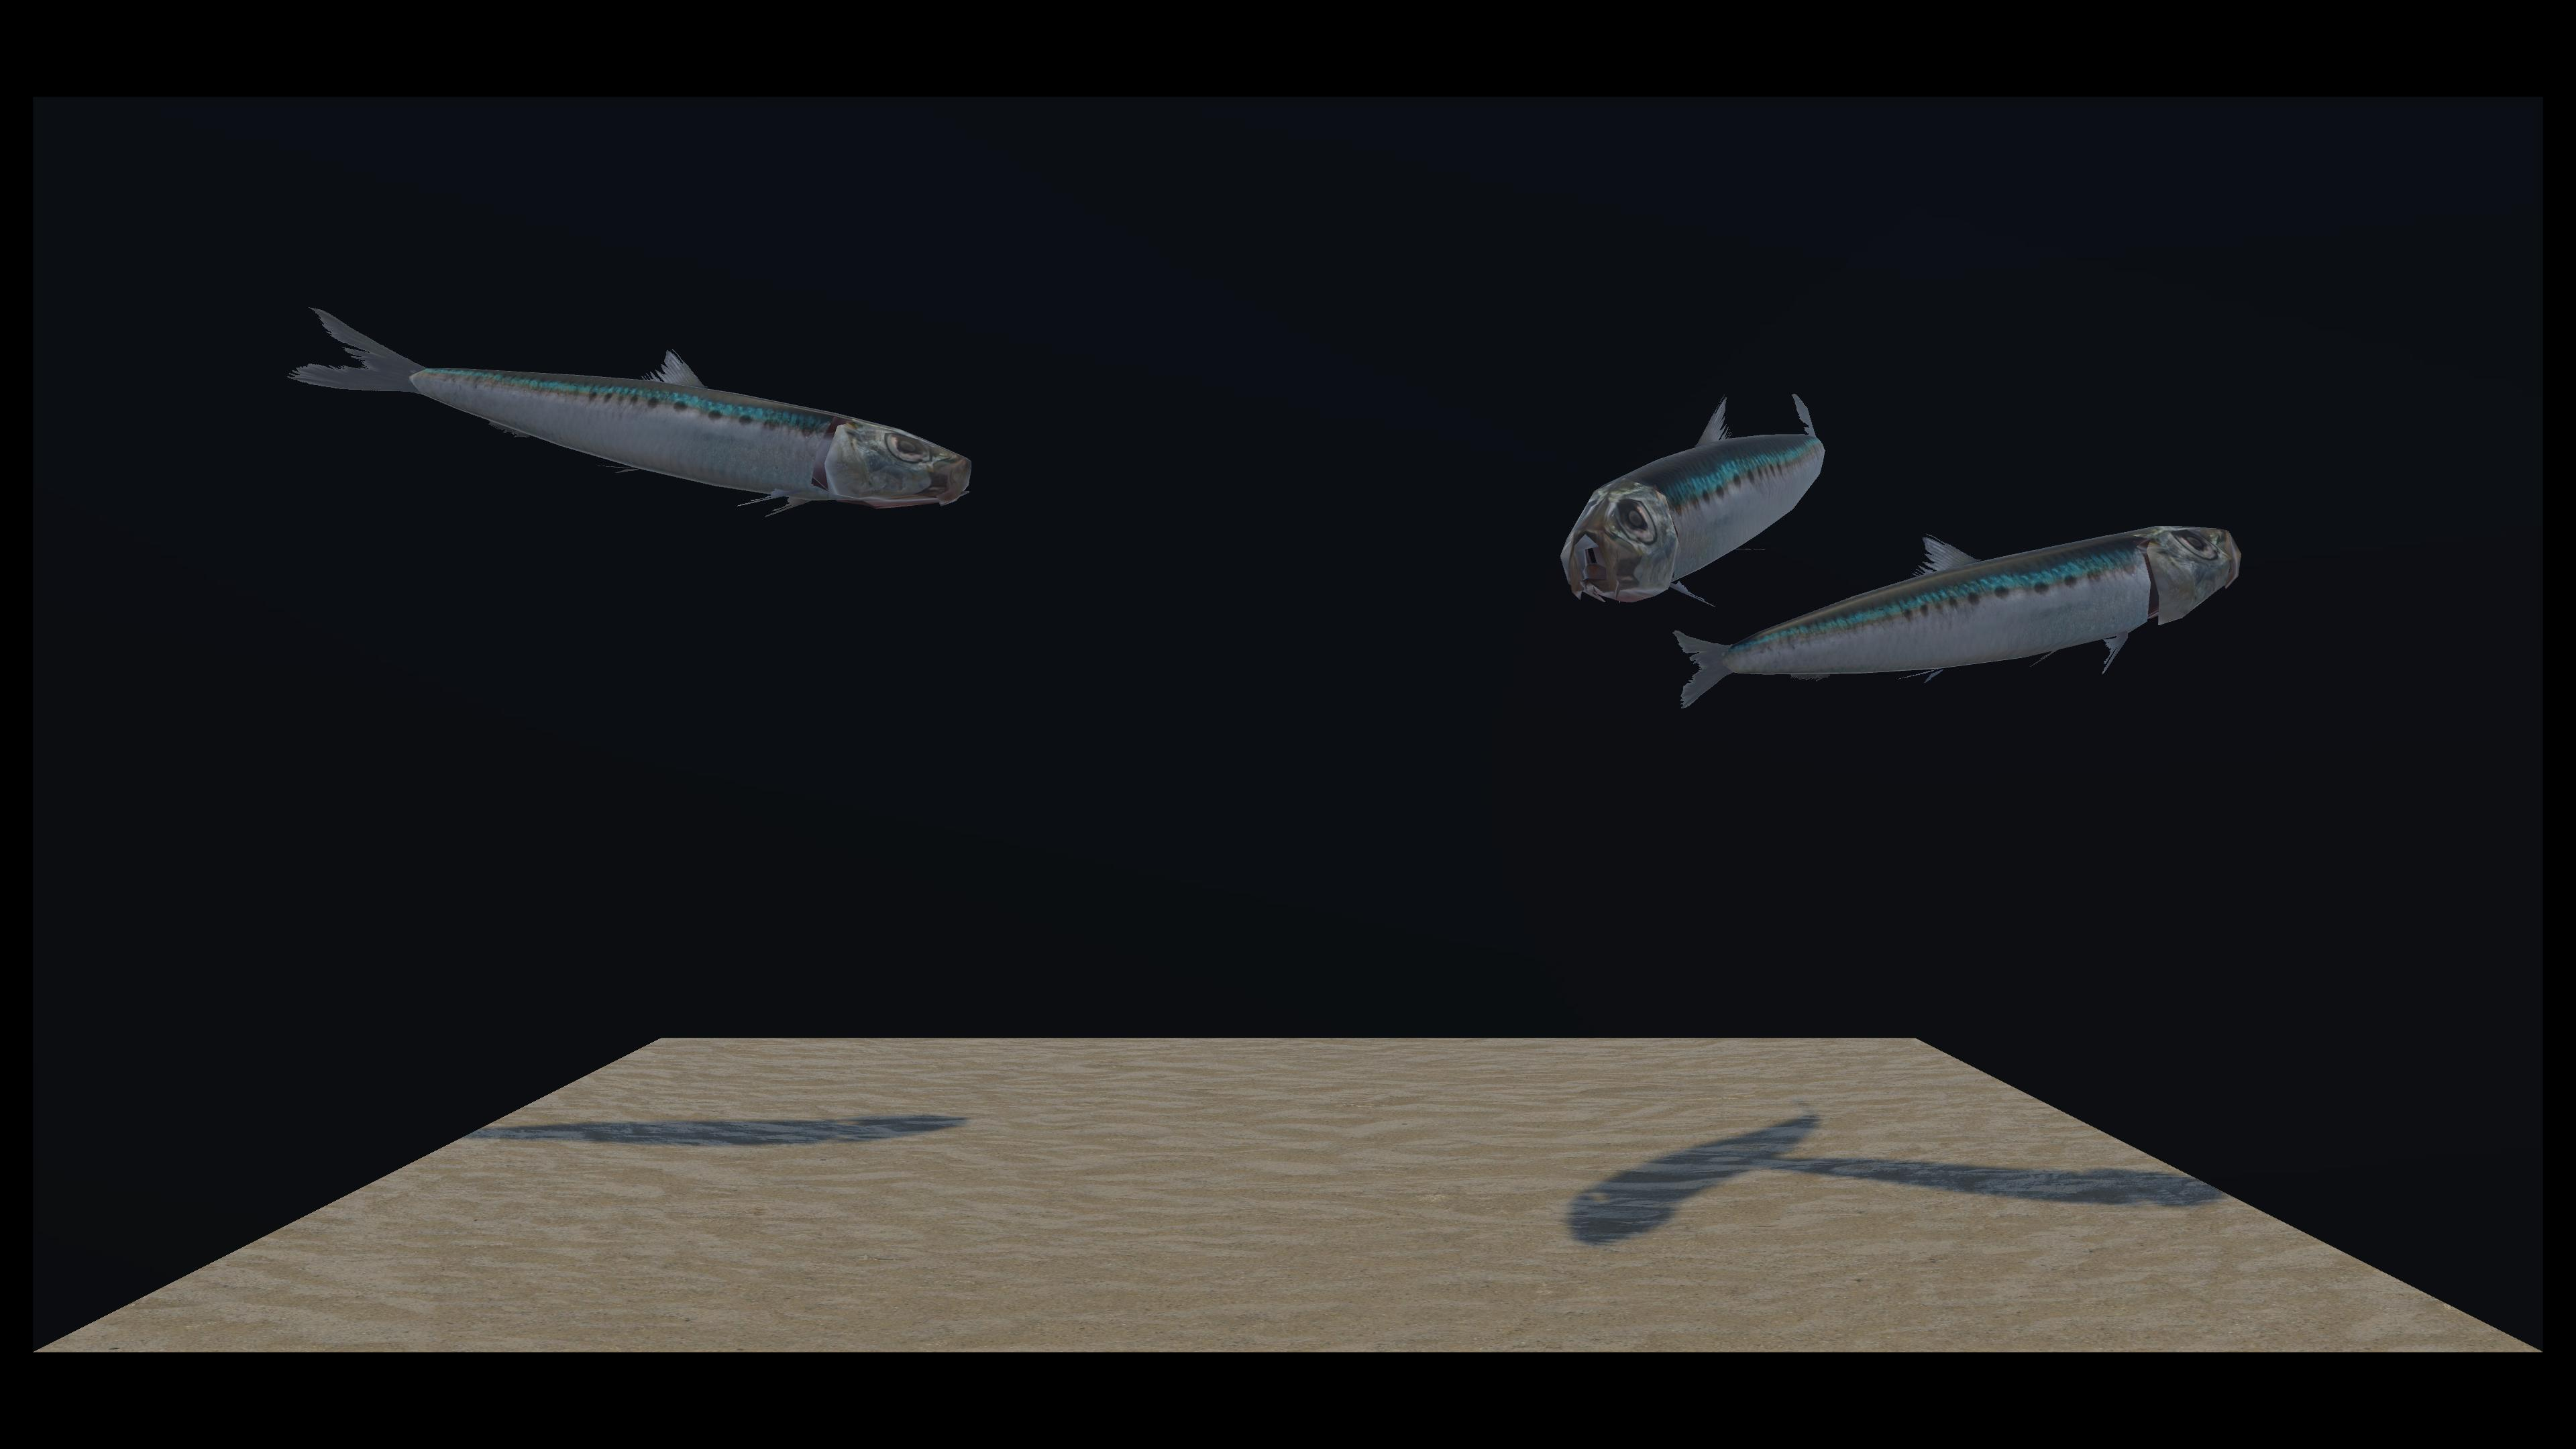Sardine_Front: (837, 419, 2215, 709), (870, 395, 1821, 614), (306, 308, 964, 527)
